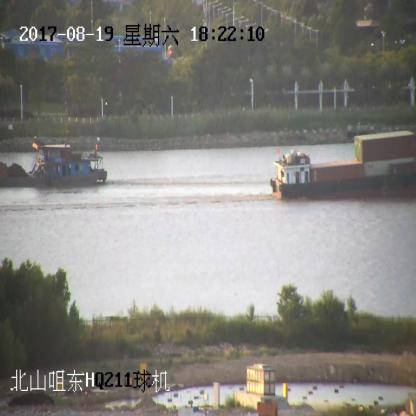Container Ship: (271, 129, 416, 199)
